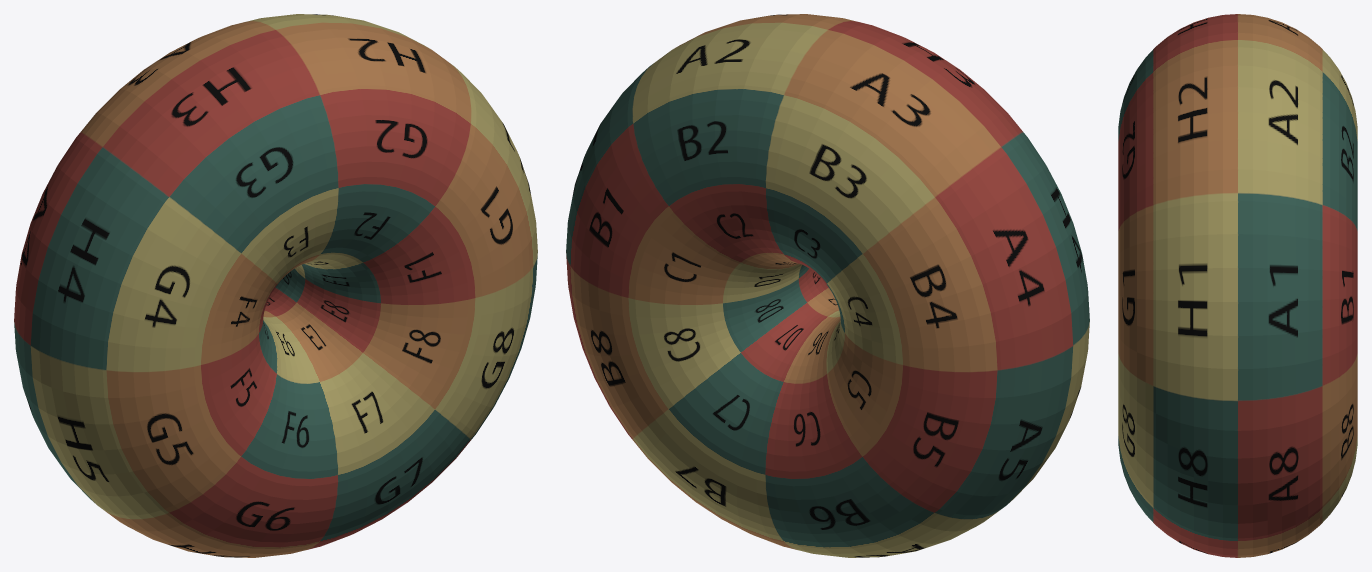
File: texture_torus_R0_r22.glb
The picture shows the model from 3 angles, left to right: view 1: azimuth 30°, elevation 25°; view 2: azimuth 150°, elevation 25°; view 3: azimuth 270°, elevation 25°; orthographic projection. The views are drawn at different scales.
Parts seen in each view (by area): view 1: world; view 2: world; view 3: world.
Part boxes in pixels (x1=…): world: x1=14, y1=14, x2=537, y2=557; world: x1=566, y1=14, x2=1089, y2=557; world: x1=1118, y1=14, x2=1357, y2=557.
Bounding box in the file's own units: 17.87 × 17.83 × 7.85.
Materials: 1 (1 with a texture image).
